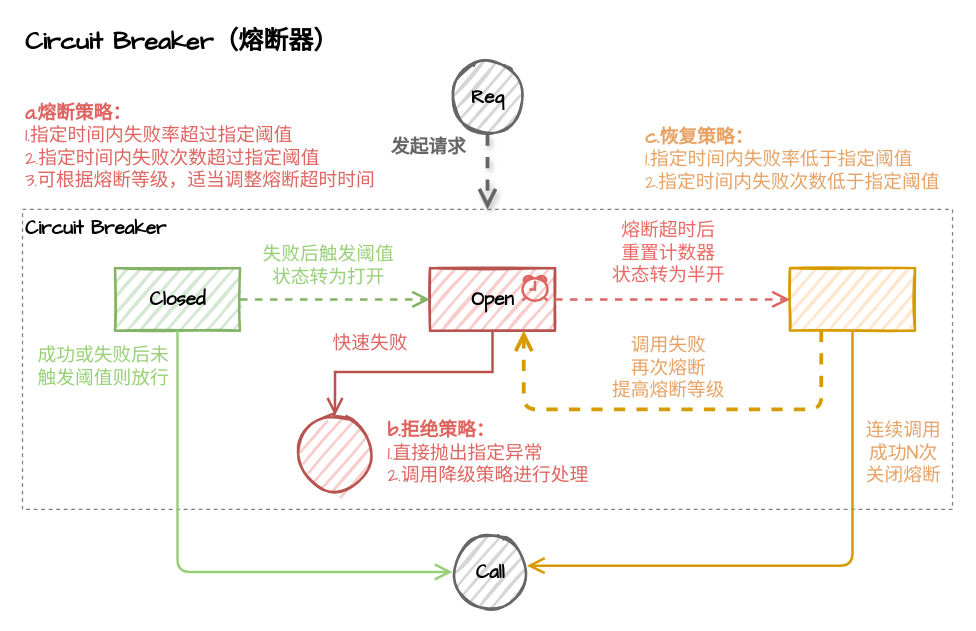
The diagram is 976 pixels wide and 631 high, and some of its shapes have lost their labels. The centre of each missing label's shape, as x and y in pixels:
"HalfOpen" goes at point (852, 298).
"Reject" goes at point (334, 452).
